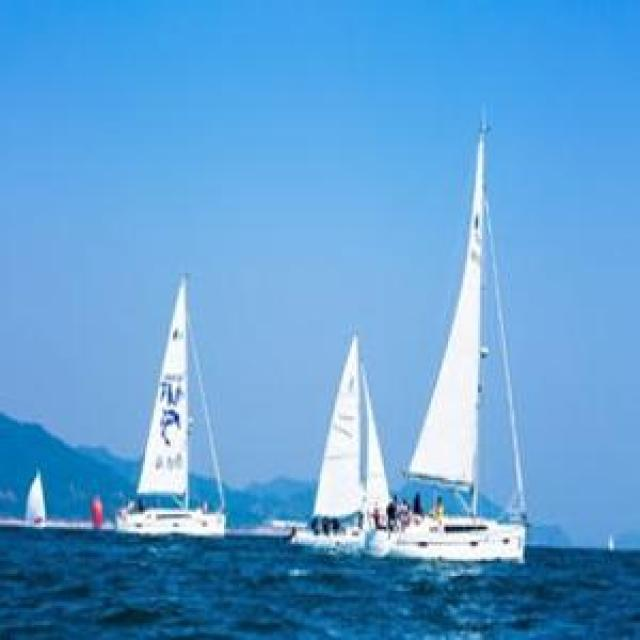sailboat: (370, 98, 534, 566), (110, 269, 230, 535), (291, 330, 394, 545)
